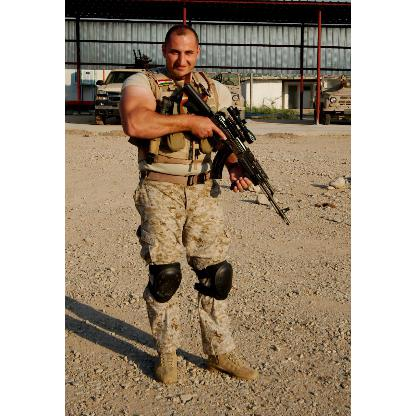gun: (183, 83, 289, 223)
